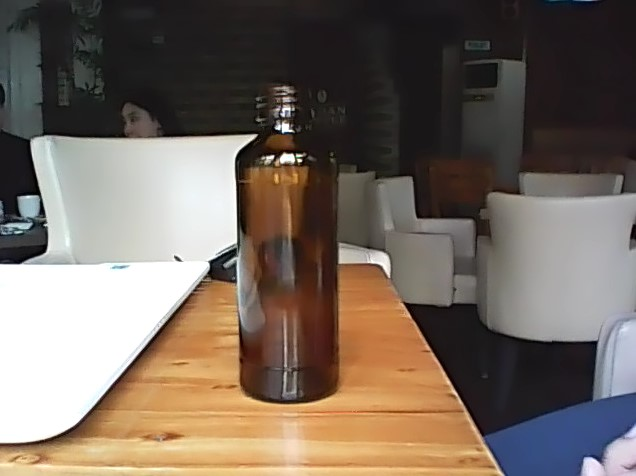Glass: (232, 83, 344, 406)
